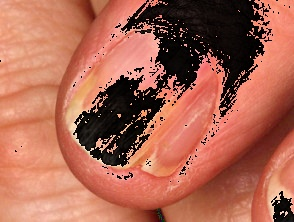Nail_psoriasis: (45, 0, 252, 206)
